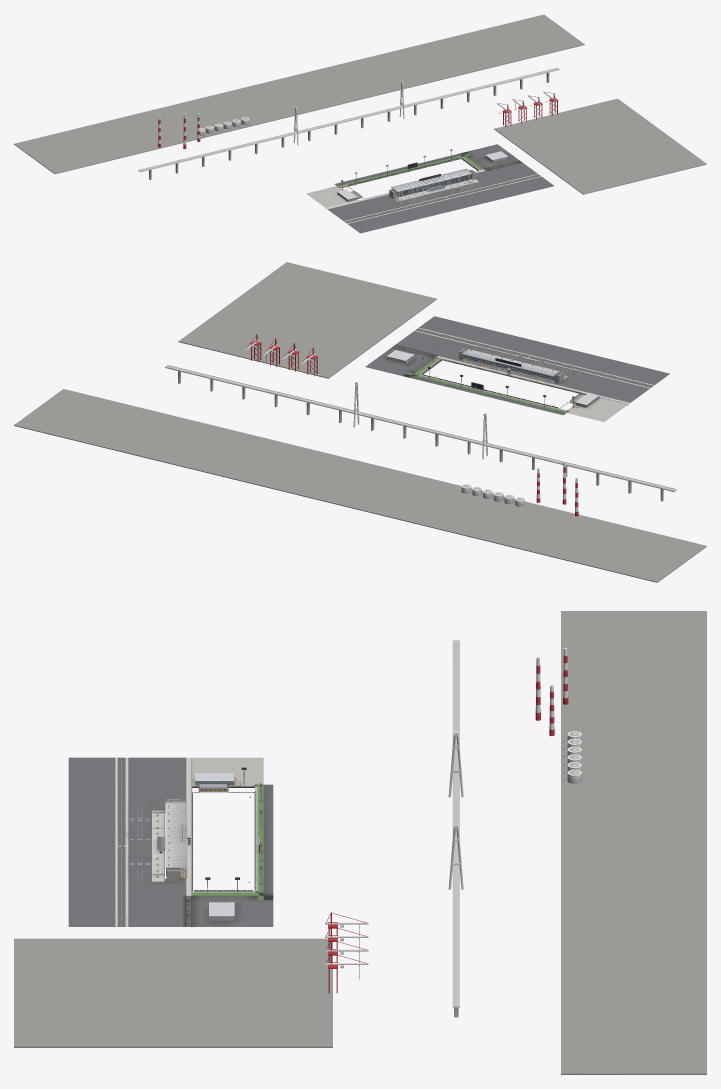
Rendered from venue.glb.
3 views of the same model, one above another, from view 1: azimuth 30°, elevation 25°; view 2: azimuth 150°, elevation 25°; view 3: azimuth 270°, elevation 25° (orthographic). The views are drawn at different scales.
Parts seen in each view (by area): view 1: Far, Land, Outside, Stand; view 2: Far, Land, Stand, Outside; view 3: Far, Land, Outside, Stand, Pit.
Boxes of the visible parts, x1=… form: Far: x1=14, y1=14, x2=706, y2=194; Land: x1=306, y1=144, x2=553, y2=233; Outside: x1=337, y1=151, x2=541, y2=223; Stand: x1=389, y1=168, x2=475, y2=198; Far: x1=14, y1=262, x2=706, y2=582; Land: x1=365, y1=316, x2=669, y2=421; Stand: x1=459, y1=348, x2=563, y2=383; Outside: x1=387, y1=327, x2=654, y2=407; Far: x1=14, y1=611, x2=706, y2=1074; Land: x1=68, y1=757, x2=273, y2=927; Outside: x1=115, y1=757, x2=234, y2=926; Stand: x1=165, y1=799, x2=186, y2=882; Pit: x1=195, y1=773, x2=250, y2=882.
Bounding box in the file's own units: 2400 × 158 × 1520.
